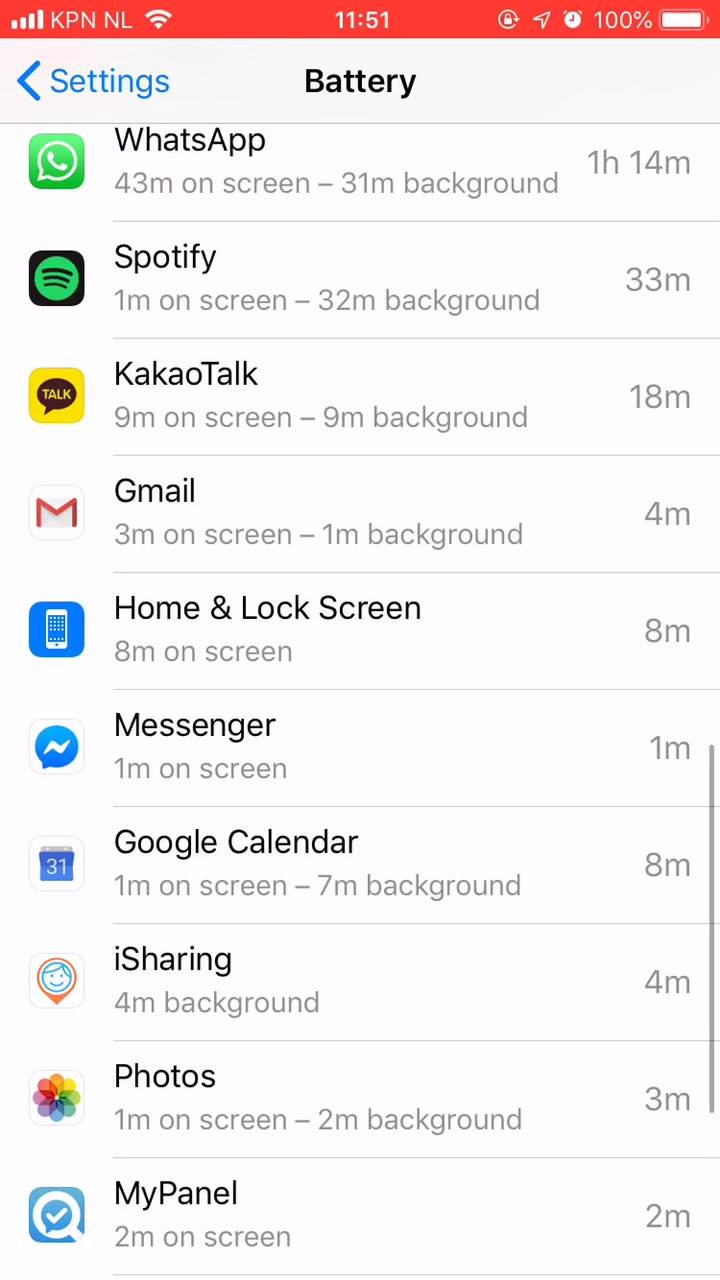app: (19, 229, 704, 320), (24, 346, 709, 437), (21, 458, 706, 549), (15, 580, 700, 671), (15, 701, 700, 792), (20, 815, 705, 906), (16, 936, 701, 1027), (21, 1052, 706, 1143), (15, 1168, 700, 1259)
